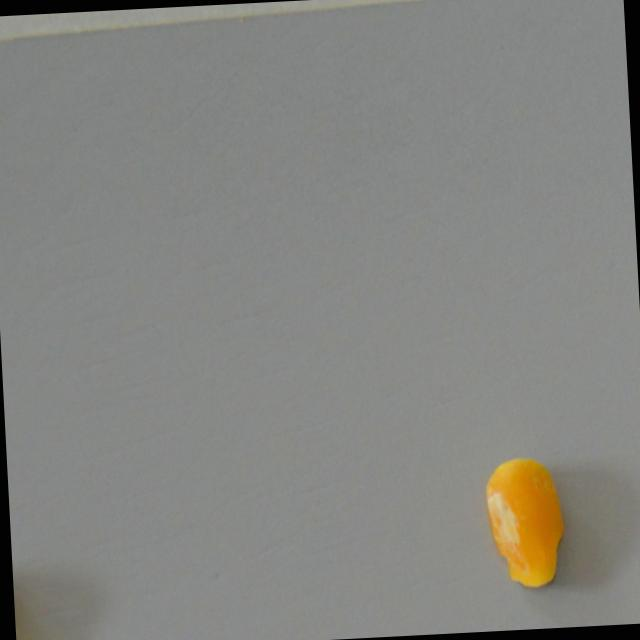pelicula: (465, 454, 584, 594)
